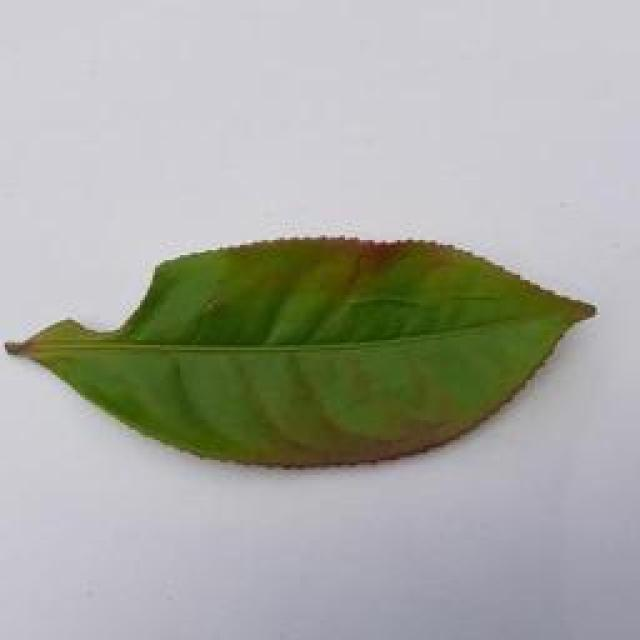Red Leaf Spot: (2, 212, 640, 482)
